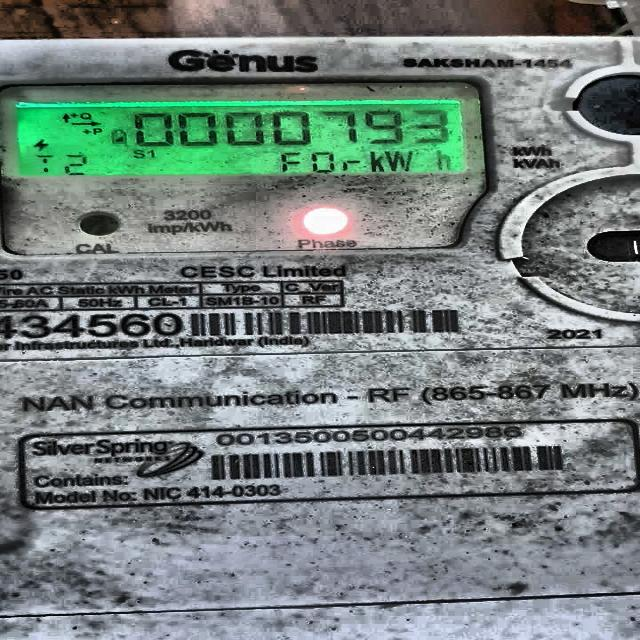Digital: (2, 35, 640, 640)
Reading: (135, 108, 455, 144)
Serial No.: (0, 312, 183, 338)
